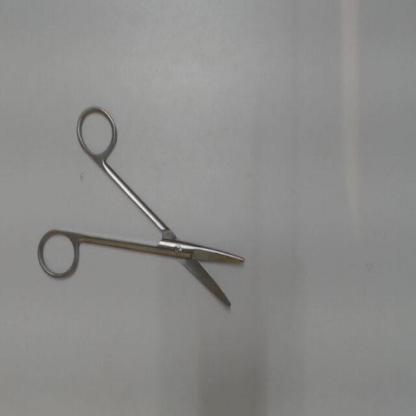Curved Mayo Scissors: (34, 99, 254, 320)
